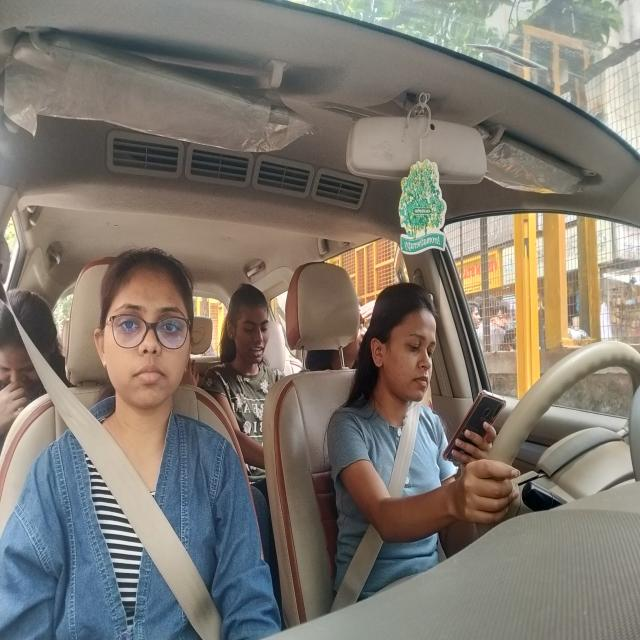mobile: (441, 384, 509, 468)
person: (90, 247, 198, 410), (368, 280, 440, 402), (2, 288, 62, 398), (222, 283, 272, 371)
